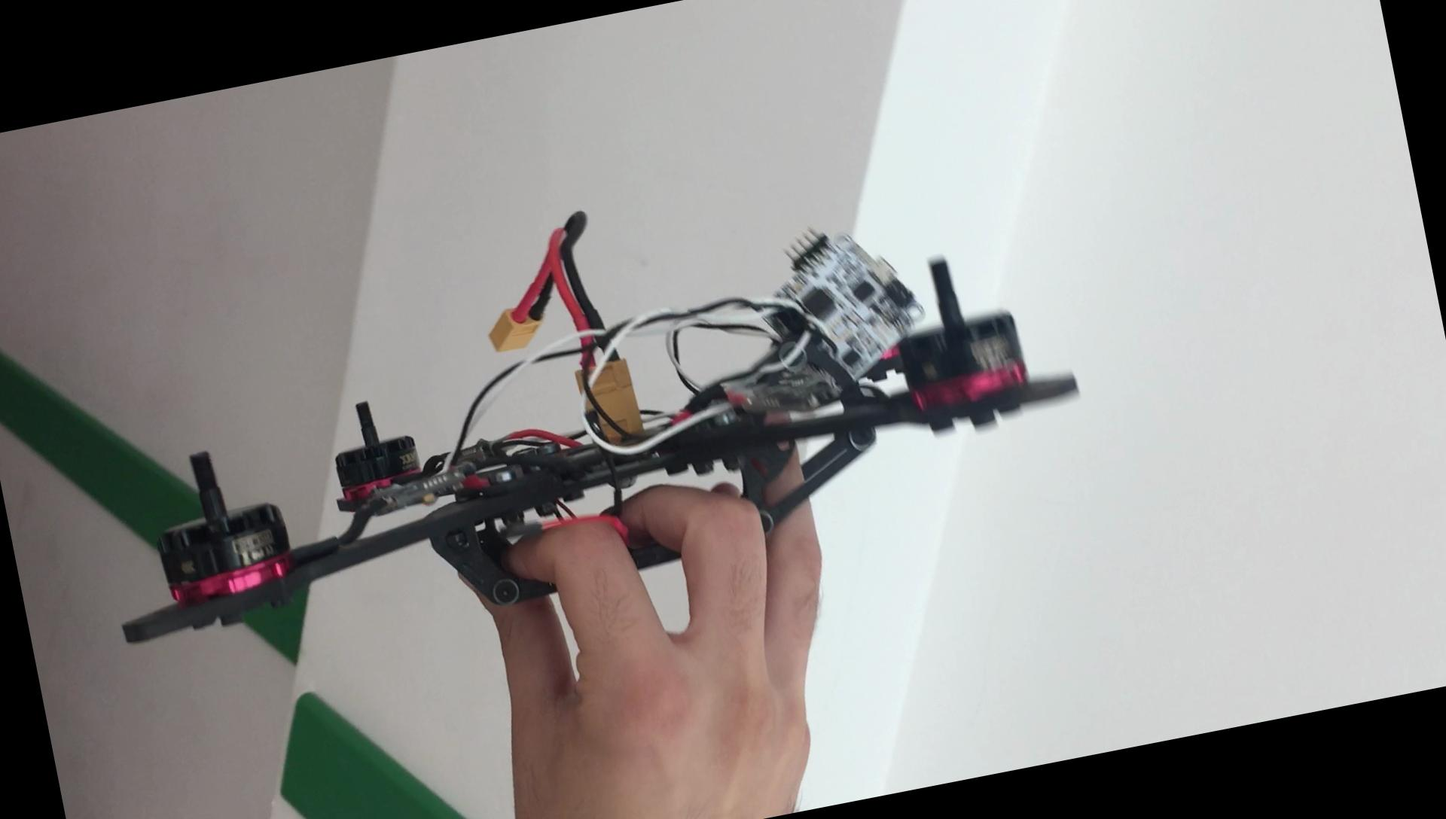drone: (53, 165, 1130, 730)
